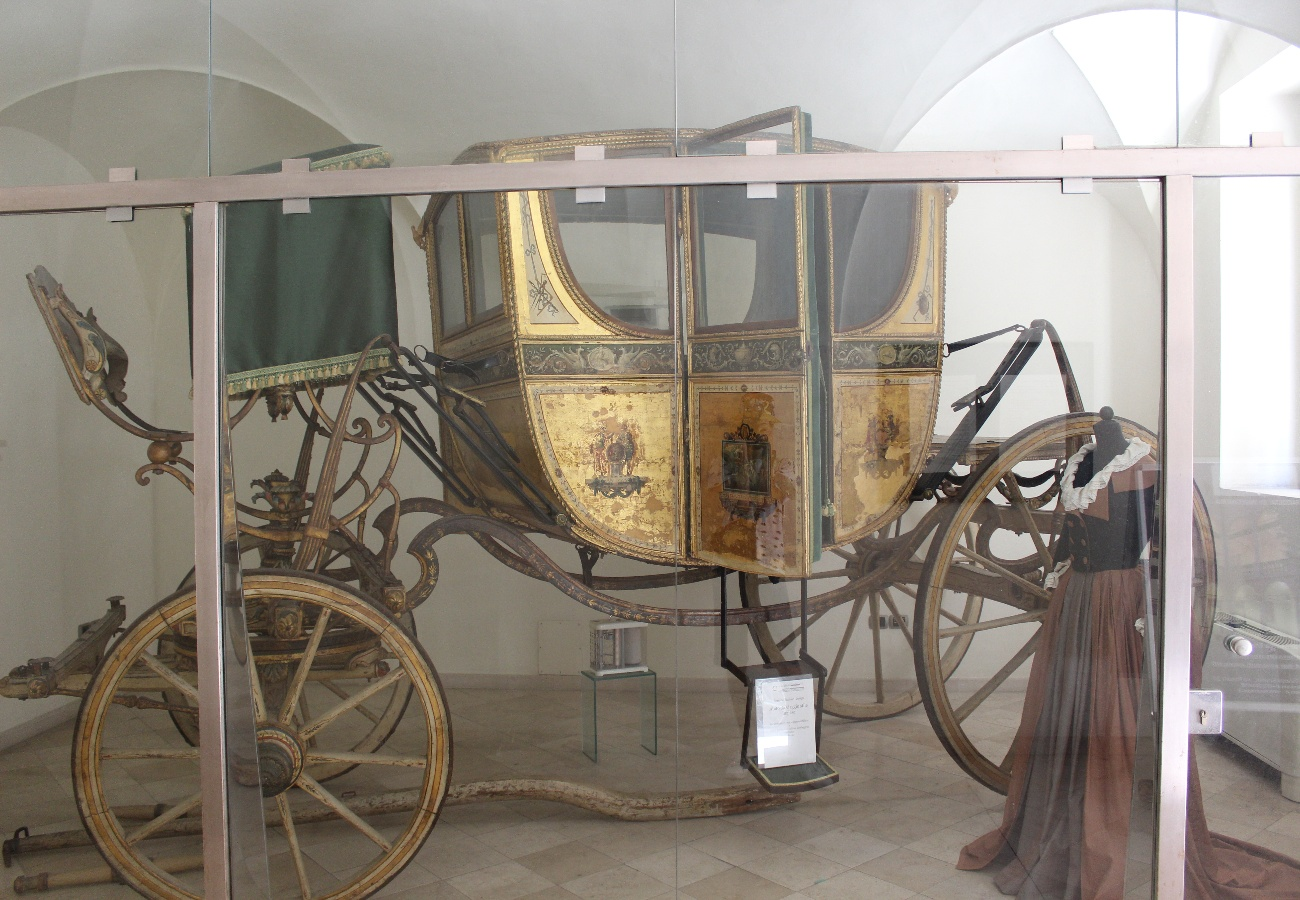Berlina Mosca: (24, 105, 1220, 900)
